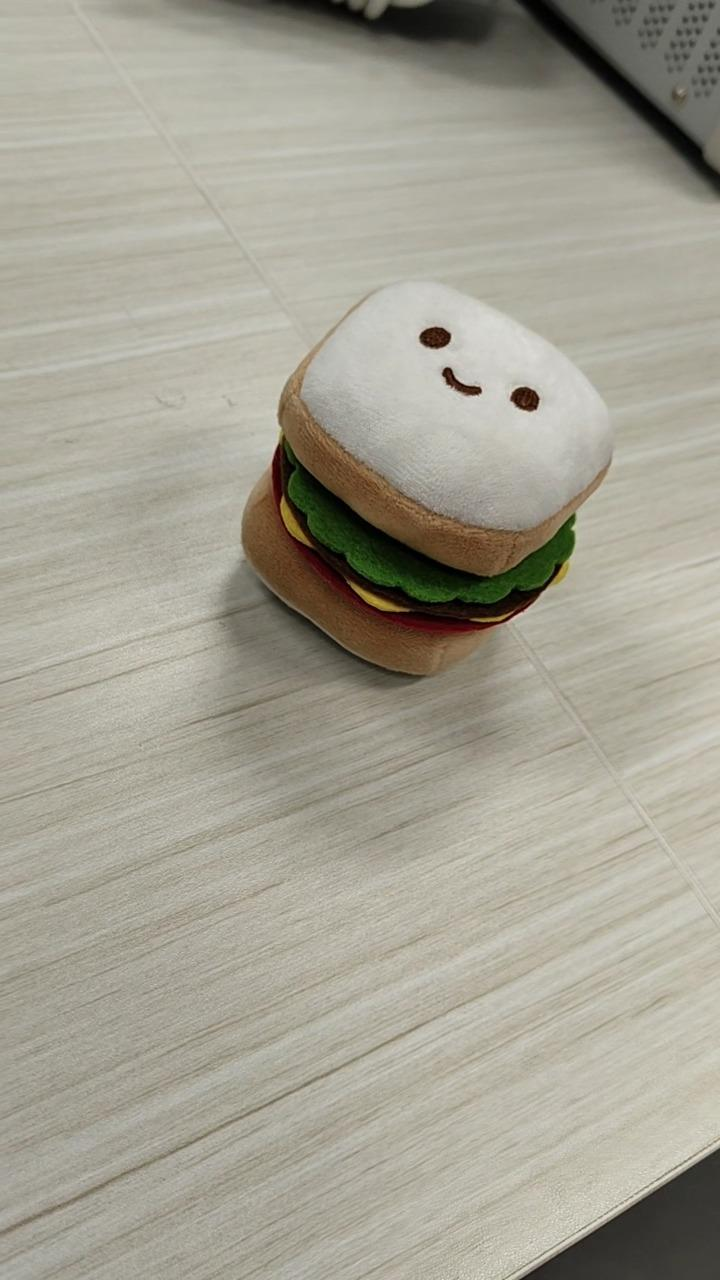objects: (239, 276, 614, 677)
